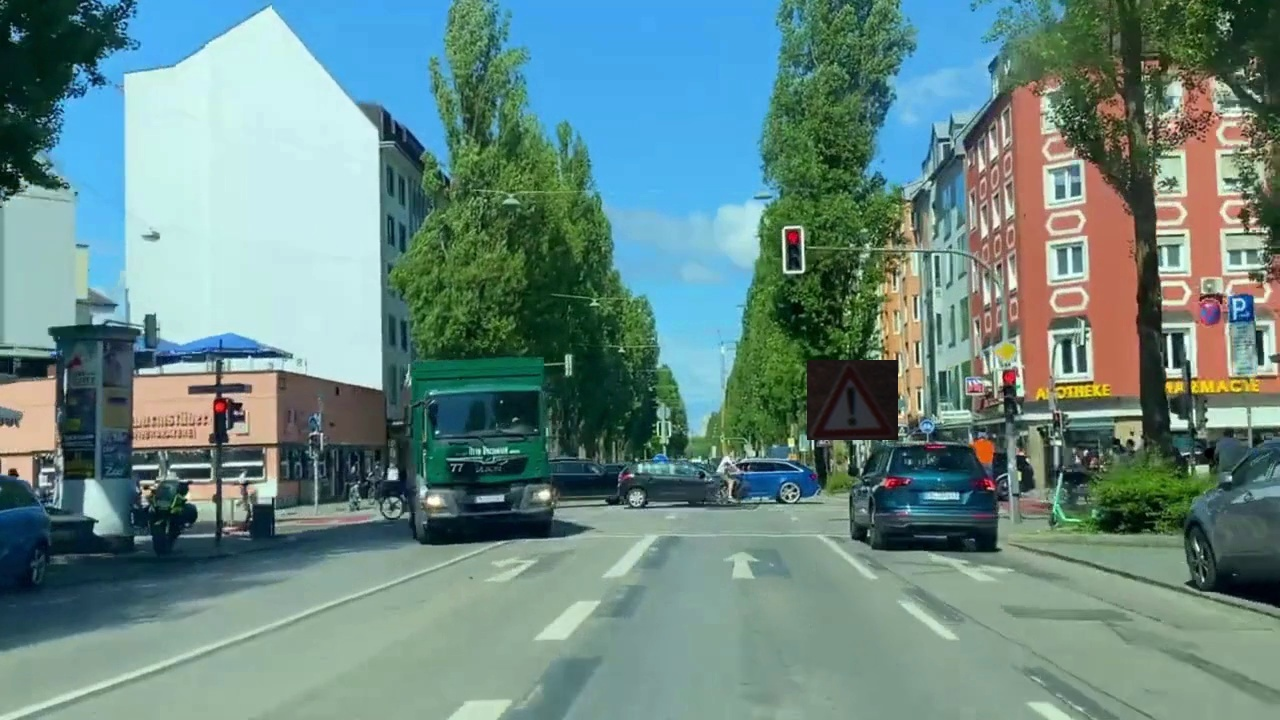Caution: (807, 360, 898, 440)
